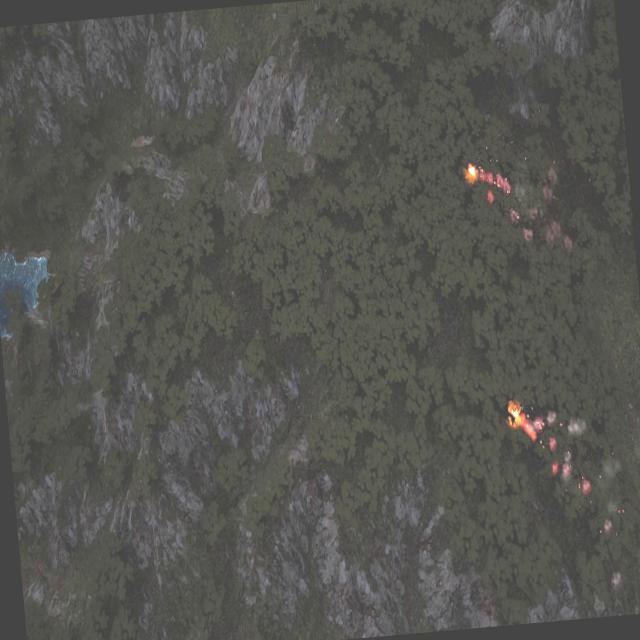fire: (463, 156, 511, 202), (504, 399, 536, 441)
